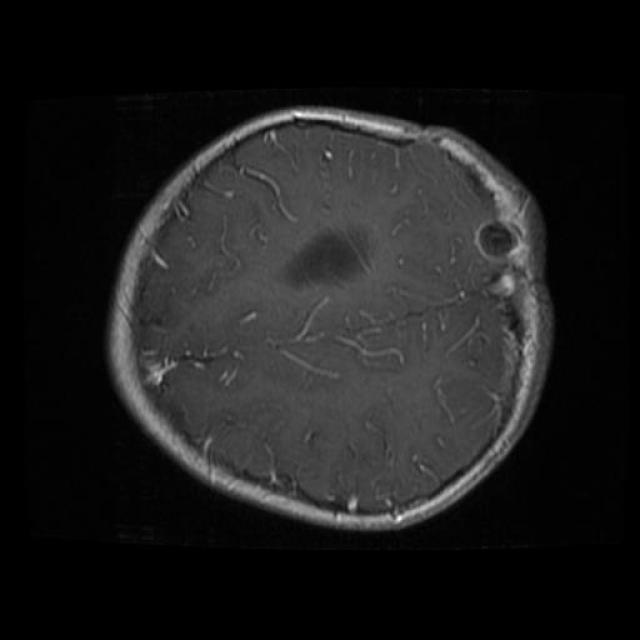Glioma: (280, 226, 369, 289)
